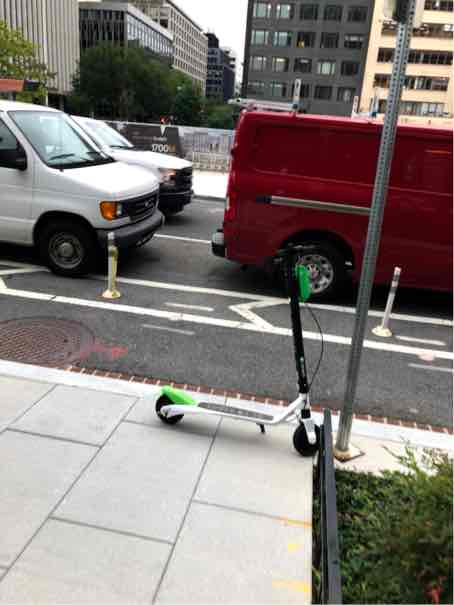scooter: (151, 235, 341, 451)
